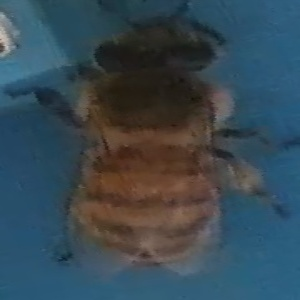bee: (52, 4, 297, 289)
